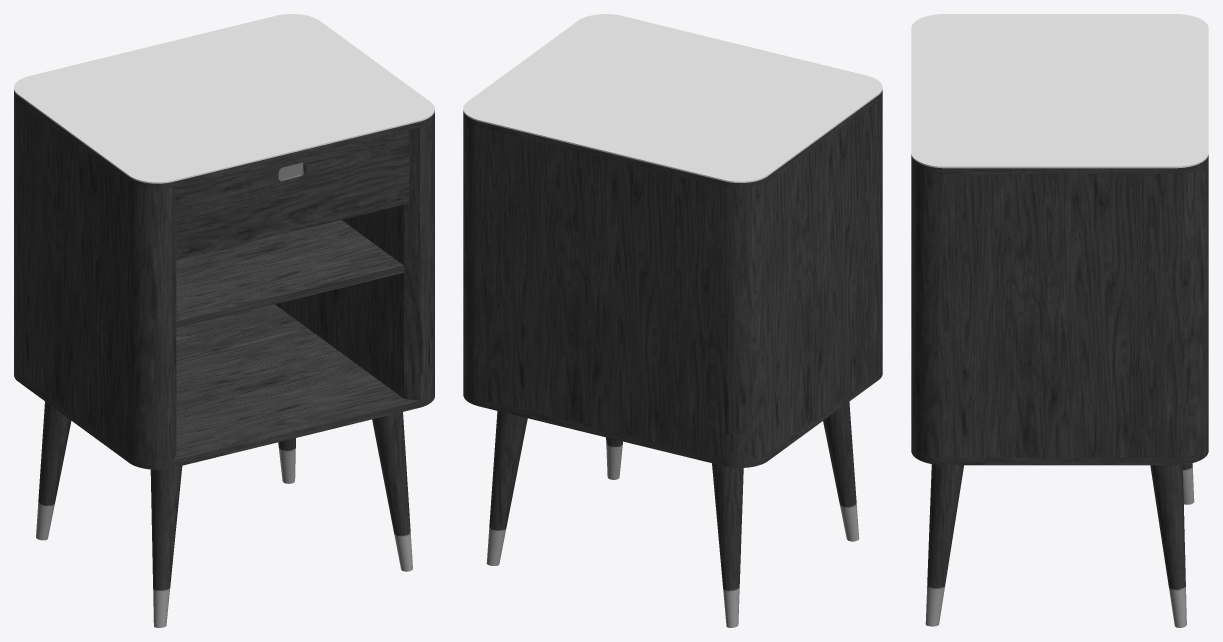
Rendered from danish_drawer.gltf.
3 views of the same model, side by side, from view 1: azimuth 30°, elevation 25°; view 2: azimuth 150°, elevation 25°; view 3: azimuth 270°, elevation 25° (orthographic). The views are drawn at different scales.
Parts seen in each view (by area): view 1: Mesh; view 2: Mesh; view 3: Mesh.
Part boxes in pixels (x1,y1,x2,y2): Mesh: (14,14,434,627); Mesh: (463,14,882,627); Mesh: (911,14,1208,627).
Size of the model in its own units: 0.45 by 0.65 by 0.37.
1 material, 1 textured.
